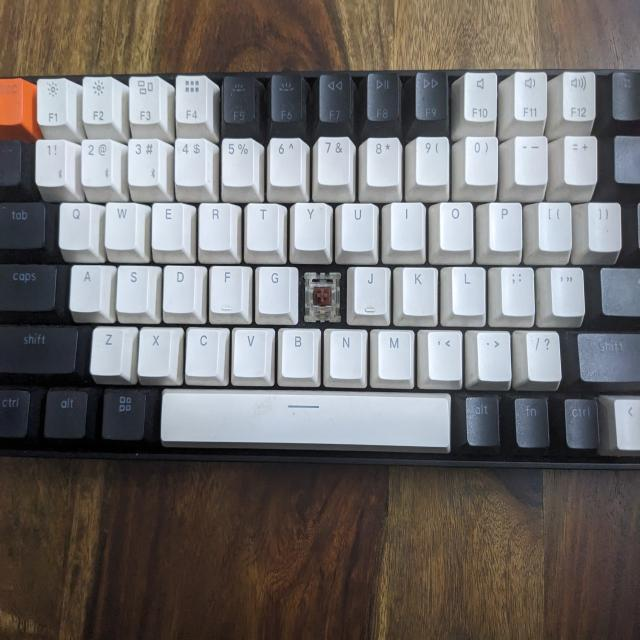C: (302, 266, 344, 321)
